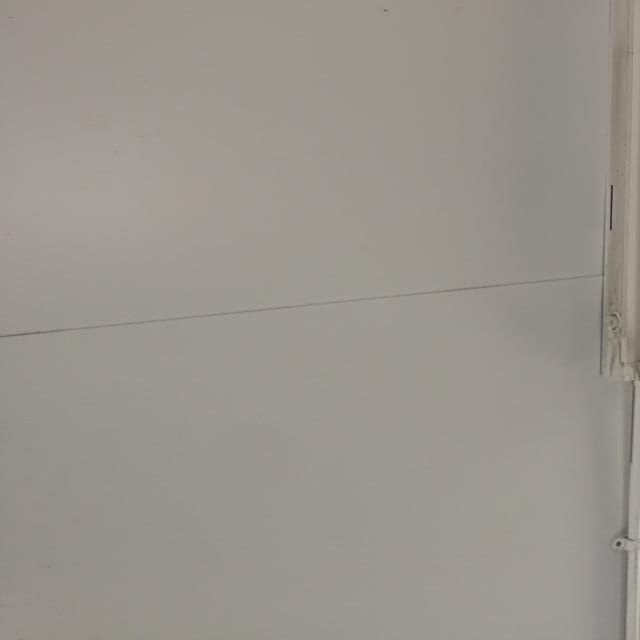fluorescent tube: (604, 0, 639, 389)
